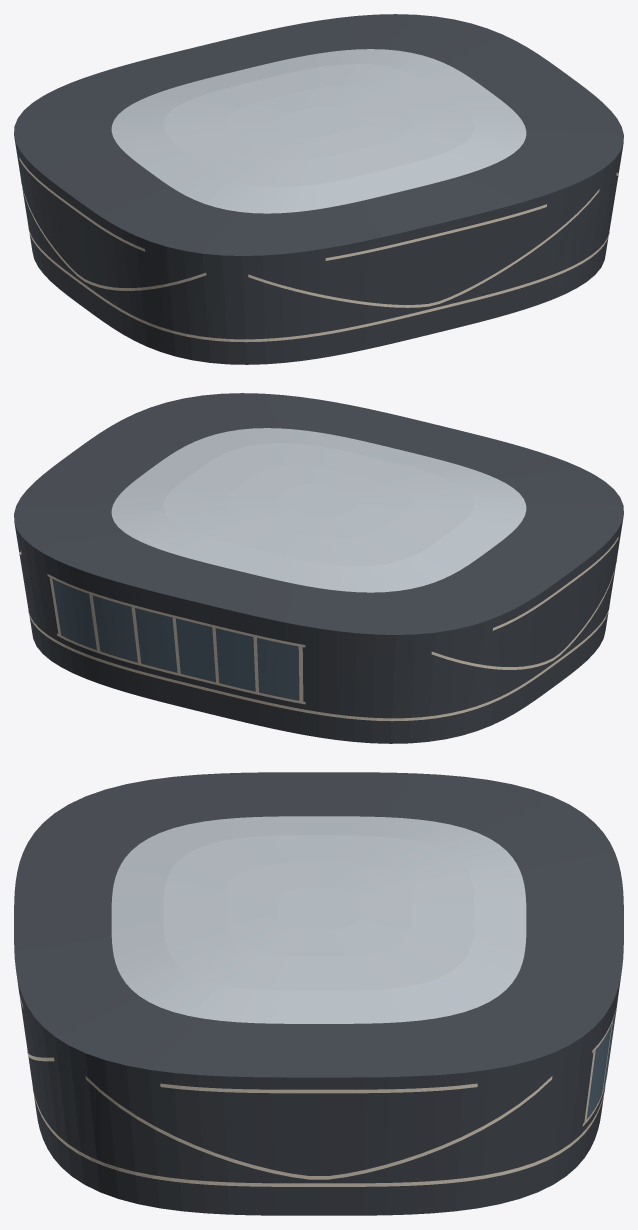
The model's file is detail.glb.
3 views of the same model, one above another, from view 1: azimuth 30°, elevation 25°; view 2: azimuth 150°, elevation 25°; view 3: azimuth 270°, elevation 25° (orthographic). The views are drawn at different scales.
Parts seen in each view (by area): view 1: allegiant-stadium; view 2: allegiant-stadium; view 3: allegiant-stadium.
Boxes of the visible parts, x1=… form: allegiant-stadium: x1=14, y1=14, x2=623, y2=364; allegiant-stadium: x1=14, y1=393, x2=623, y2=743; allegiant-stadium: x1=14, y1=772, x2=623, y2=1215.
Bounding box in the file's own units: 276 × 69 × 233.
